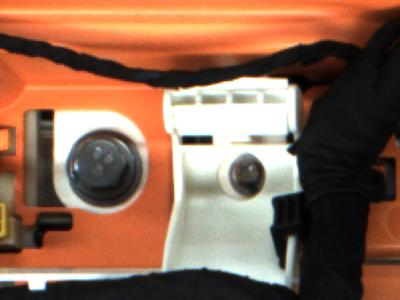nut_b: (64, 127, 147, 209)
